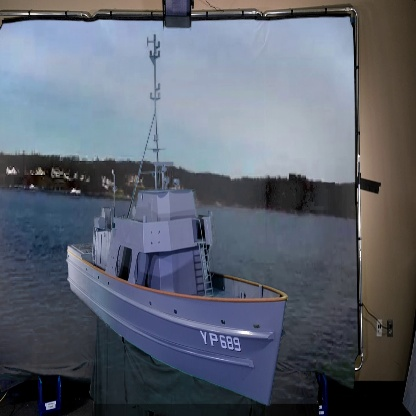YP689: (68, 37, 288, 411)
